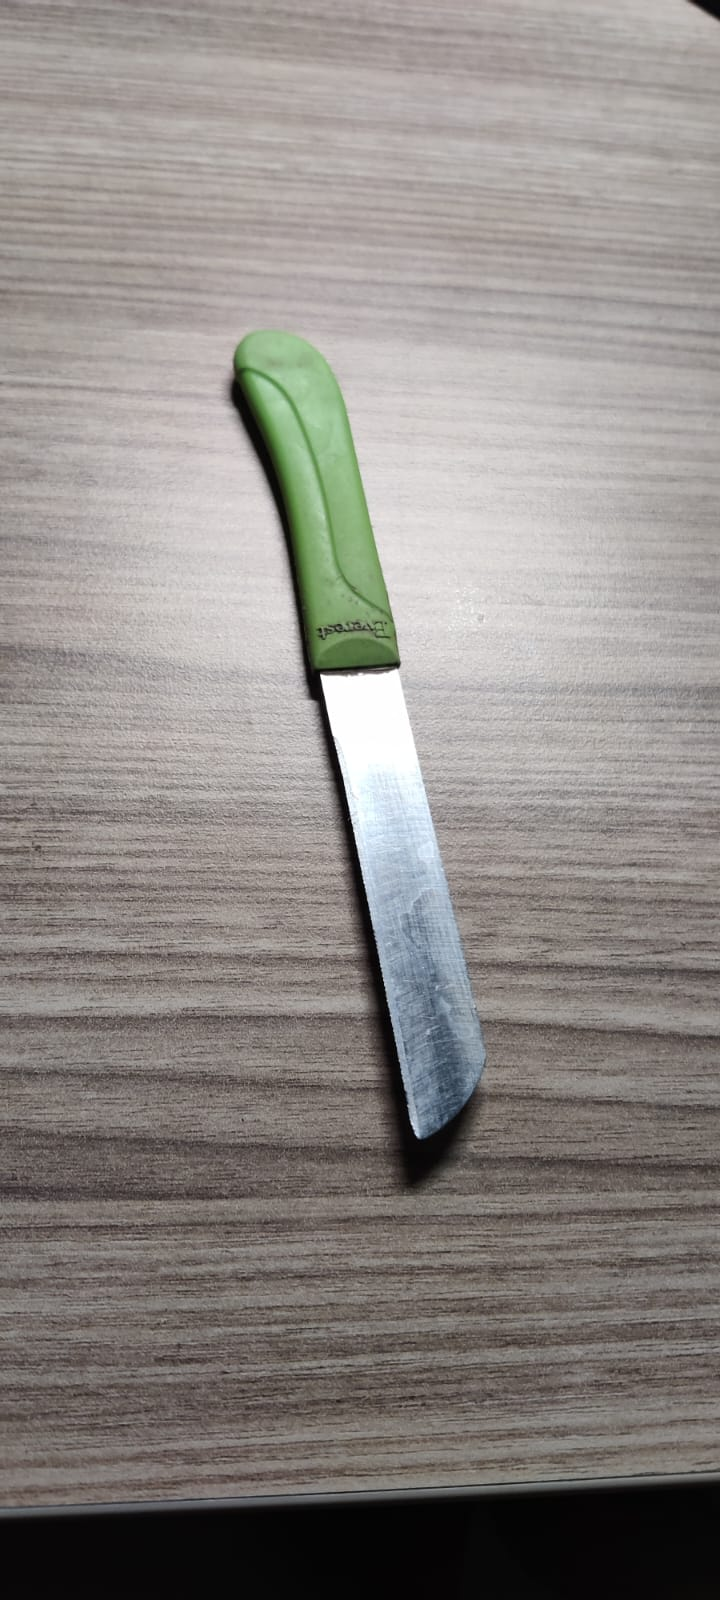knife: (213, 337, 530, 1177)
